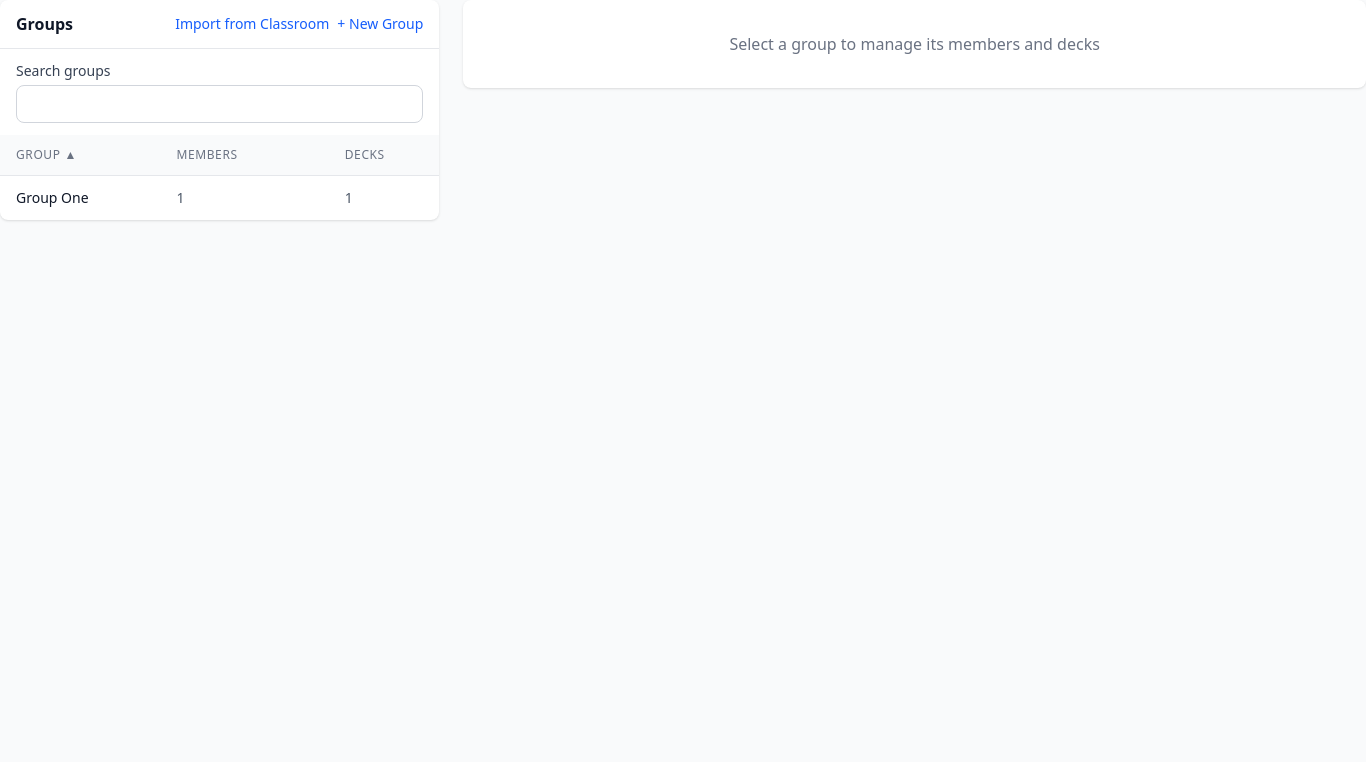
GroupManager › offers a group Manual only or Disabled mnemonics, with no cognate setting (v1.20.0)
The image size is (1366, 762).
Click the button "Group One": {"x": 52, "y": 198} [16,188,89,208]
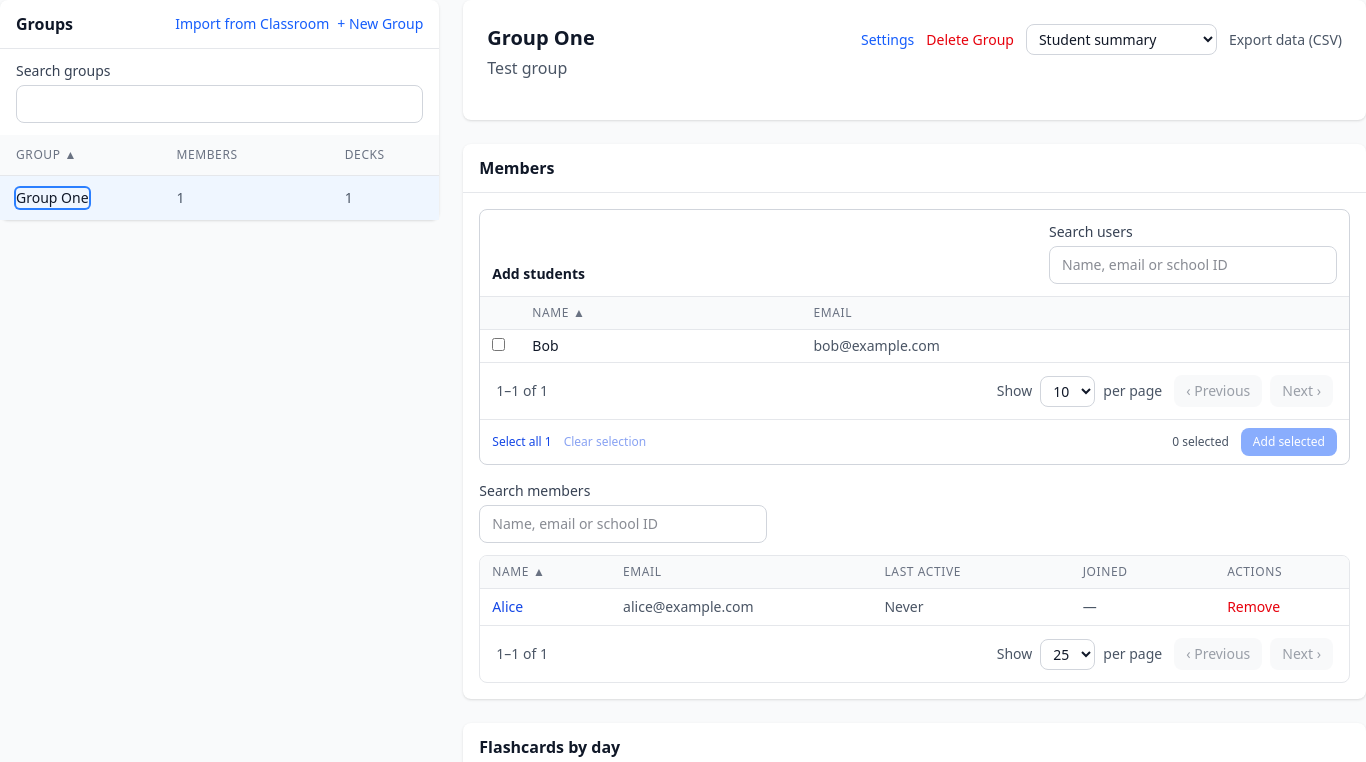
Click the button "Settings": {"x": 888, "y": 40} [861,30,914,50]
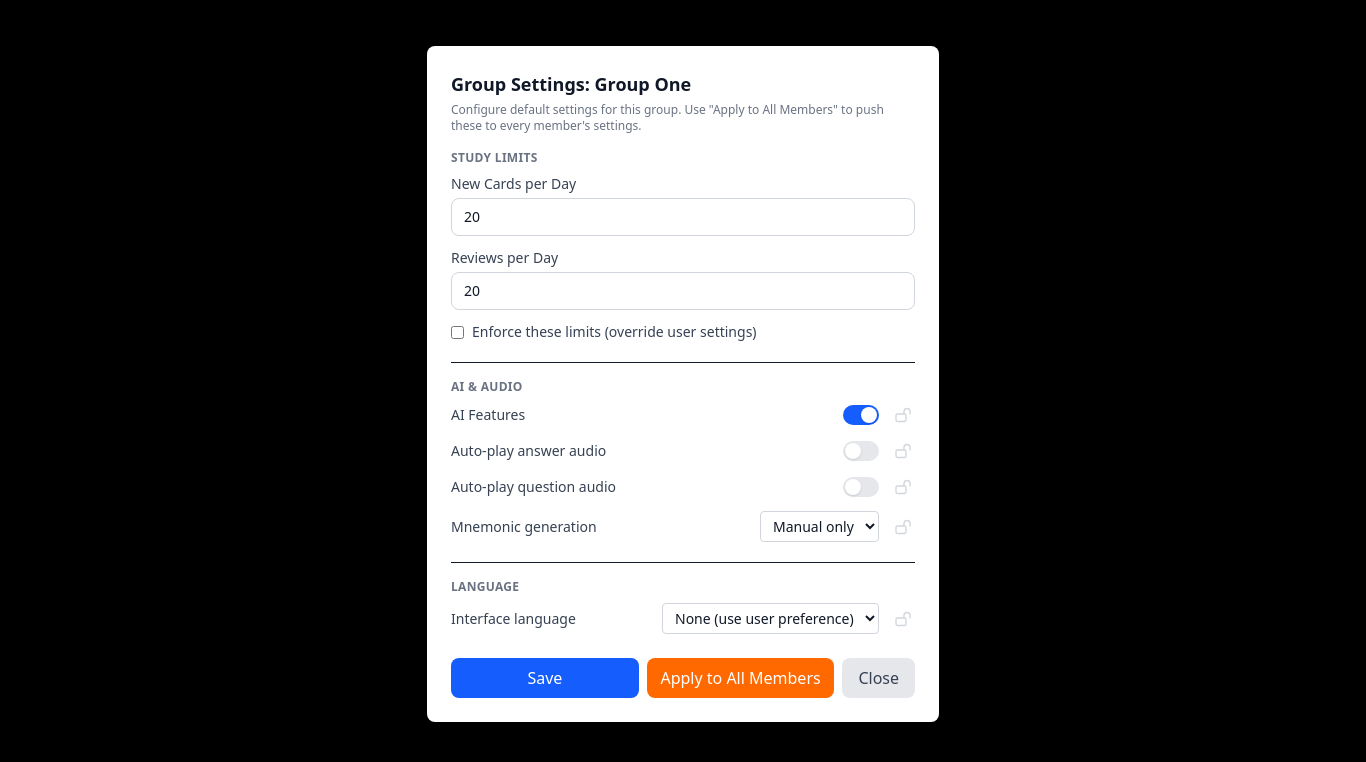
Expected: the text "Mnemonic generation" is shown, [451,516,597,536]
